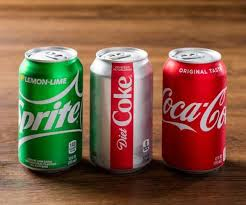can: (17, 46, 230, 176)
